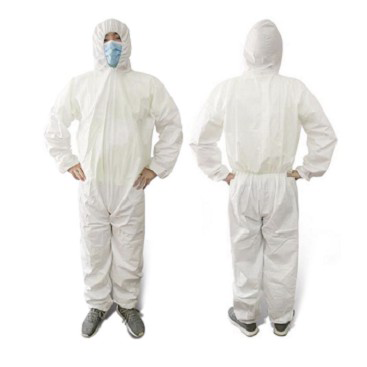Coverall: (193, 18, 336, 311), (45, 19, 184, 308)
Mask: (103, 42, 123, 67)
